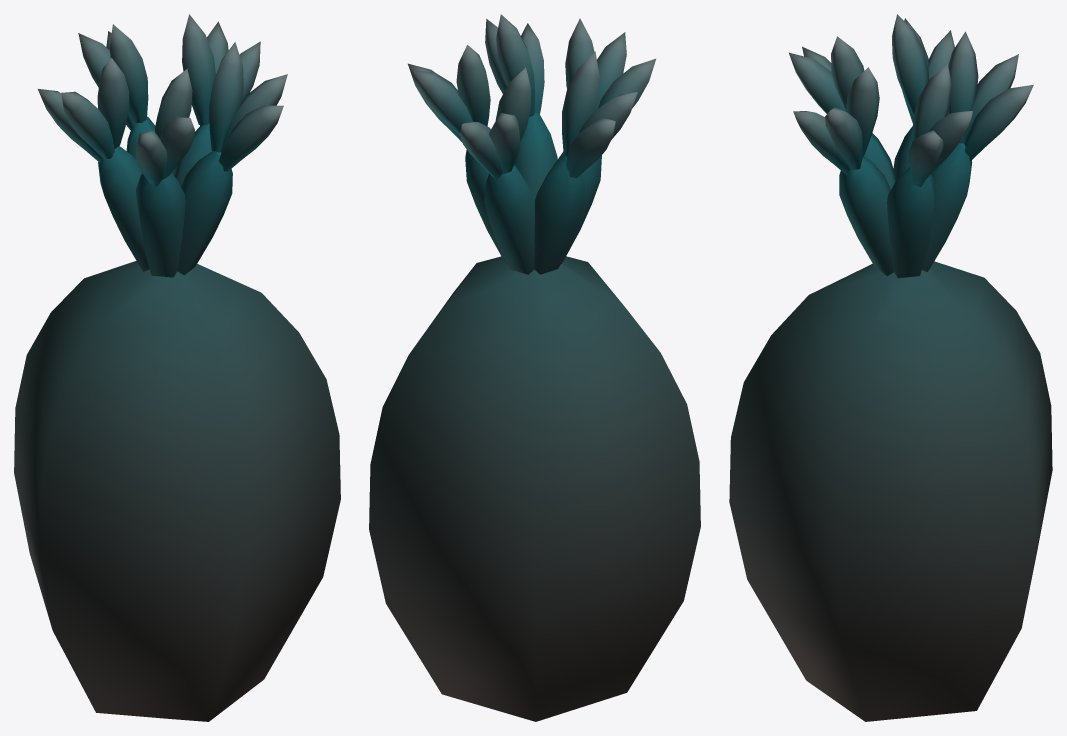
File: plants-leafy-plants-leafy-bulb_v5.glb
The picture shows the model from 3 angles, left to right: view 1: azimuth 30°, elevation 25°; view 2: azimuth 150°, elevation 25°; view 3: azimuth 270°, elevation 25°; orthographic projection.
Parts seen in each view (by area): view 1: Leafy Bulb_v5; view 2: Leafy Bulb_v5; view 3: Leafy Bulb_v5.
Part boxes in pixels (<box>): Leafy Bulb_v5: <box>14,14,340,721</box>; Leafy Bulb_v5: <box>369,14,700,721</box>; Leafy Bulb_v5: <box>729,14,1052,721</box>.
Bounding box in the file's own units: 0.1774 × 0.4 × 0.1734.
